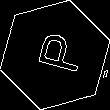P_W: (26, 31, 84, 79)
